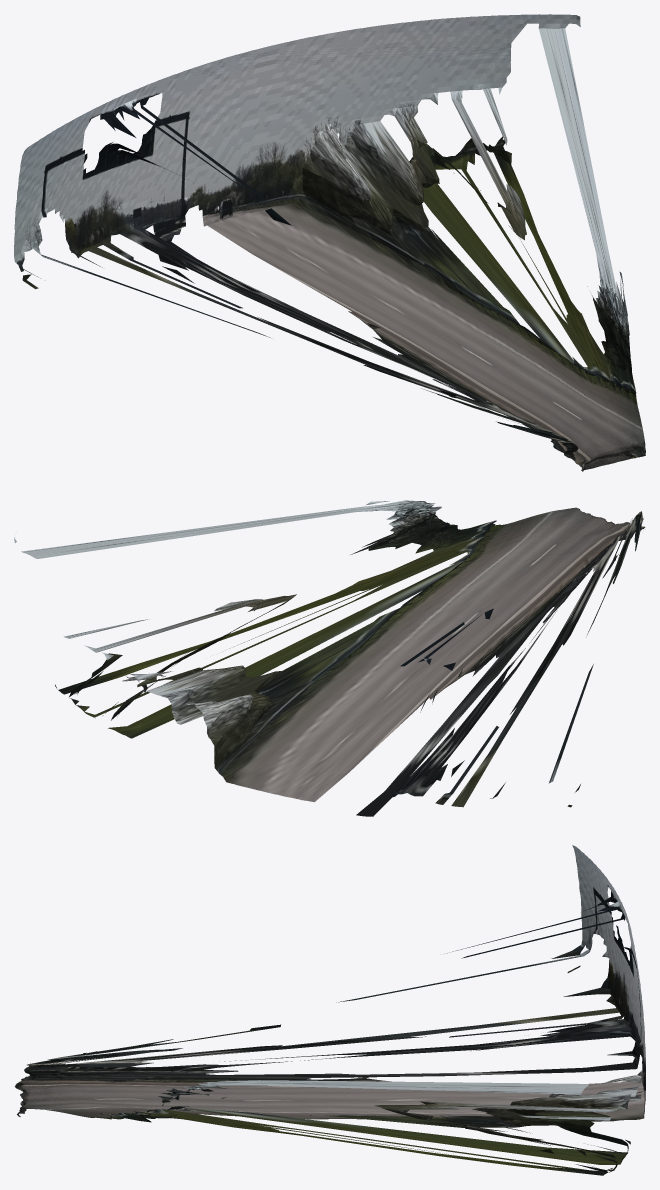
3 renders of one model, top to bottom at view 1: azimuth 30°, elevation 25°; view 2: azimuth 150°, elevation 25°; view 3: azimuth 270°, elevation 25°, orthographic. The views are drawn at different scales.
Visible parts, largest first — view 1: defaultobject; view 2: defaultobject; view 3: defaultobject.
Part boxes in pixels (bbox=[...]): defaultobject: bbox=[14, 14, 645, 471]; defaultobject: bbox=[14, 500, 645, 816]; defaultobject: bbox=[14, 845, 645, 1175].
Bounding box in the file's own units: 40.83 × 12.2 × 44.67.
1 material, 1 textured.
